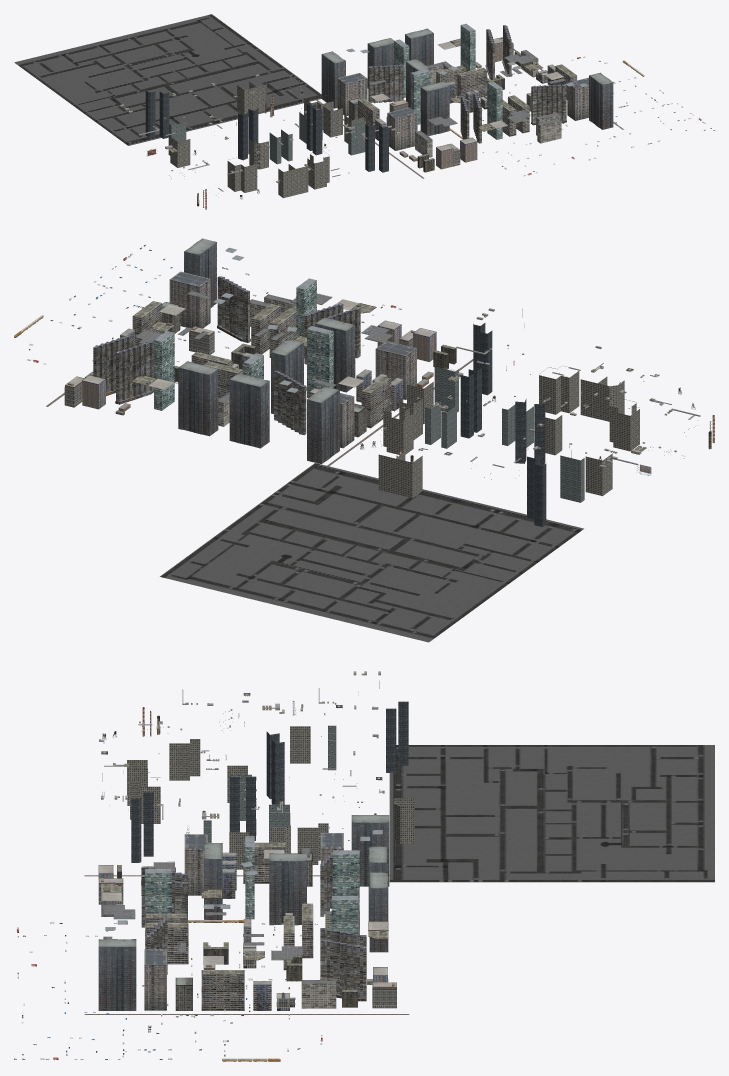
File: city-block.glb
3 views of the same model, one above another, from view 1: azimuth 30°, elevation 25°; view 2: azimuth 150°, elevation 25°; view 3: azimuth 270°, elevation 25° (orthographic). The views are drawn at different scales.
Visible parts, largest first — view 1: Object_5, Object_946, Object_44, Object_7, Object_948; view 2: Object_5, Object_946, Object_44, Object_7; view 3: Object_946, Object_5, Object_44, Object_7, Object_948.
Part boxes in pixels (bbox=[...]): Object_5: bbox=[321, 23, 613, 172]; Object_946: bbox=[14, 14, 321, 145]; Object_44: bbox=[145, 82, 388, 198]; Object_7: bbox=[119, 74, 400, 209]; Object_948: bbox=[449, 56, 714, 176]; Object_5: bbox=[64, 238, 456, 464]; Object_946: bbox=[160, 463, 583, 642]; Object_44: bbox=[378, 323, 639, 526]; Object_7: bbox=[360, 308, 714, 479]; Object_946: bbox=[389, 745, 714, 882]; Object_5: bbox=[98, 815, 396, 1010]; Object_44: bbox=[127, 701, 414, 869]; Object_7: bbox=[99, 671, 384, 851]; Object_948: bbox=[14, 920, 322, 1061].
Bounding box in the file's own units: 956 × 104 × 862.
Materials: 6 (6 with a texture image).
